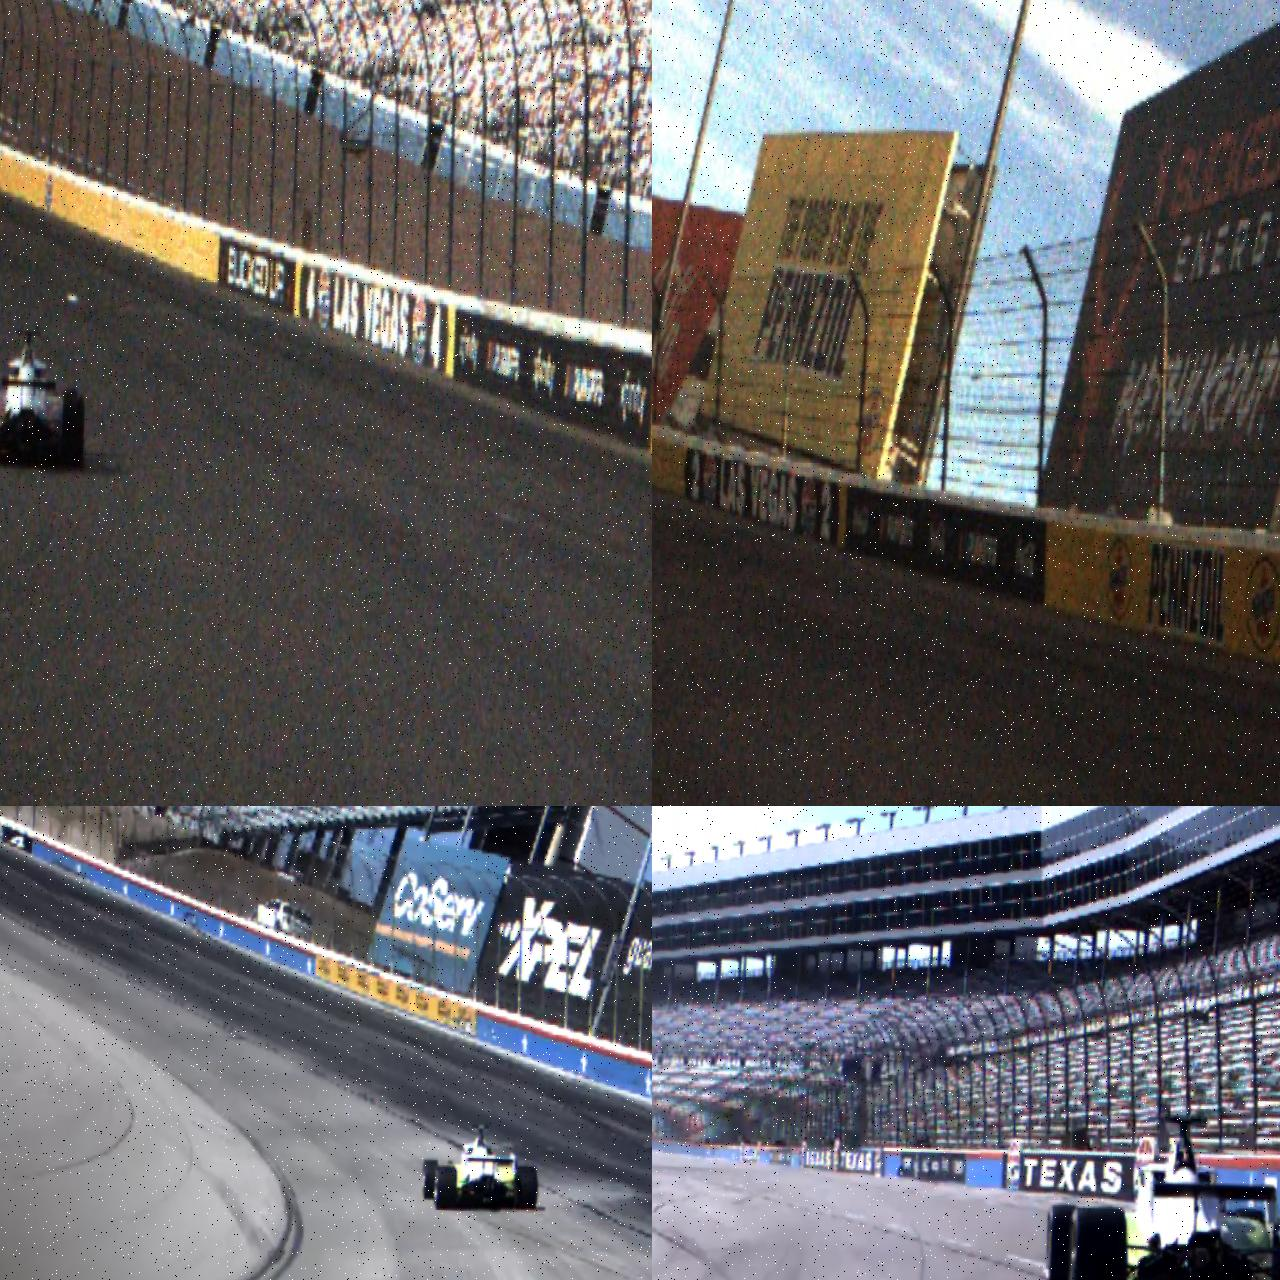AV: (1042, 1110, 1280, 1280), (0, 324, 88, 471), (421, 1122, 540, 1212)
Wheel: (1068, 1205, 1126, 1280), (1046, 1203, 1080, 1280), (60, 388, 86, 471), (434, 1165, 457, 1210), (515, 1165, 538, 1210), (422, 1158, 438, 1200)
